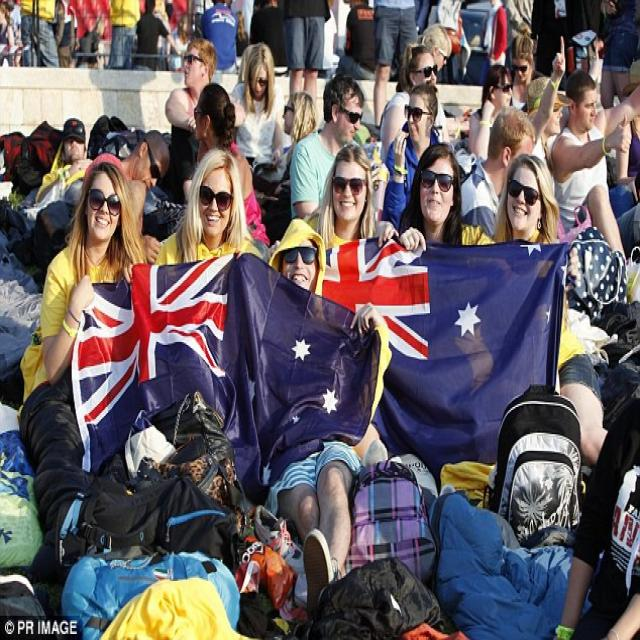body: (228, 210, 398, 626), (0, 0, 639, 91), (19, 153, 144, 587), (484, 151, 610, 469), (306, 142, 401, 463), (552, 364, 639, 638), (548, 66, 640, 264), (288, 71, 390, 224), (180, 80, 272, 245), (152, 144, 272, 269), (163, 35, 250, 204), (394, 140, 496, 250), (458, 106, 538, 244), (377, 41, 451, 168), (380, 77, 440, 233), (226, 39, 286, 184), (270, 88, 320, 251), (524, 33, 568, 203), (119, 127, 172, 266), (33, 116, 96, 209), (466, 62, 515, 163), (595, 0, 637, 110), (506, 26, 538, 114)
